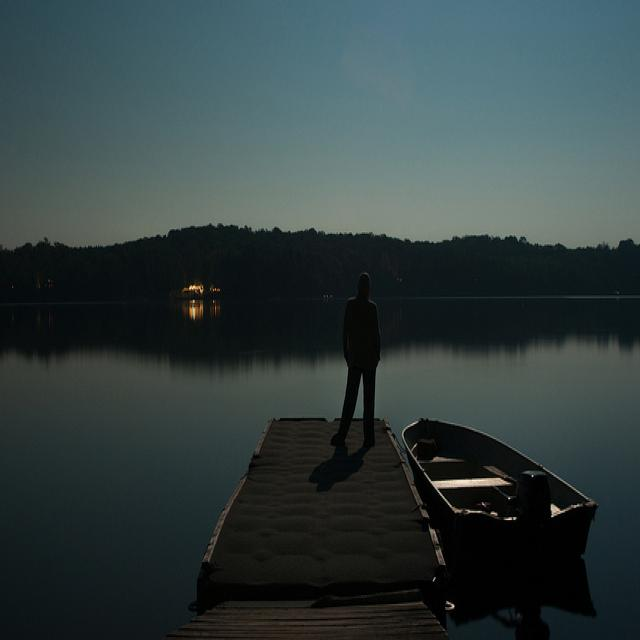Boat: (393, 374, 606, 614)
People: (325, 251, 387, 461)
